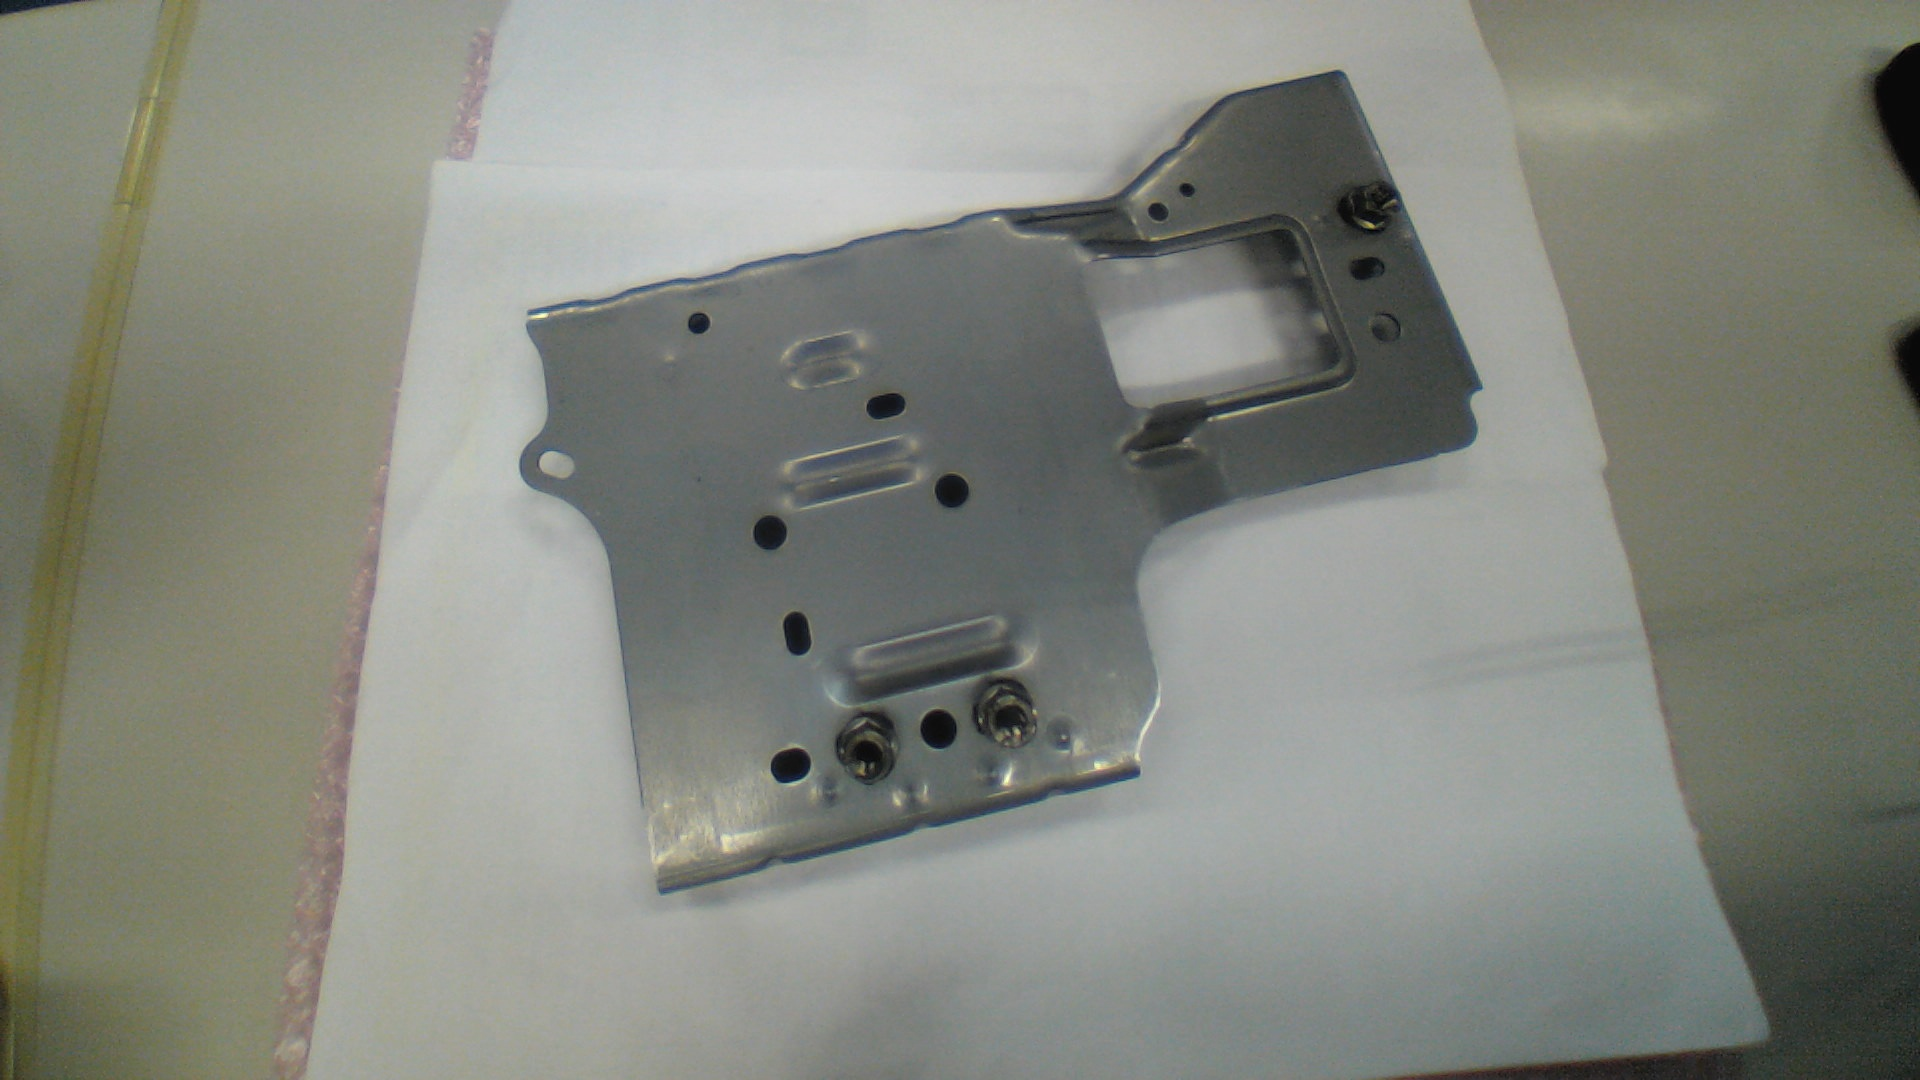dog: (973, 676, 1040, 754), (836, 709, 899, 785), (1337, 179, 1403, 233)
